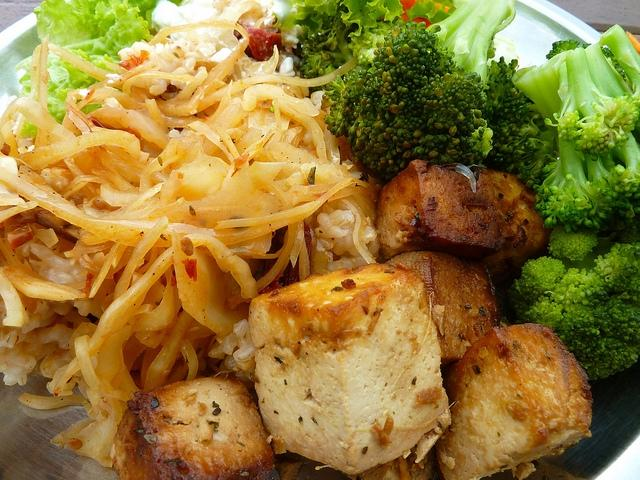broccoli: (319, 0, 516, 180), (506, 240, 640, 380), (544, 48, 638, 162), (532, 137, 618, 234), (296, 10, 354, 80), (546, 39, 626, 82)
lettuce: (15, 0, 158, 137), (274, 0, 338, 52), (339, 0, 405, 37), (405, 0, 450, 23), (47, 59, 70, 87)
